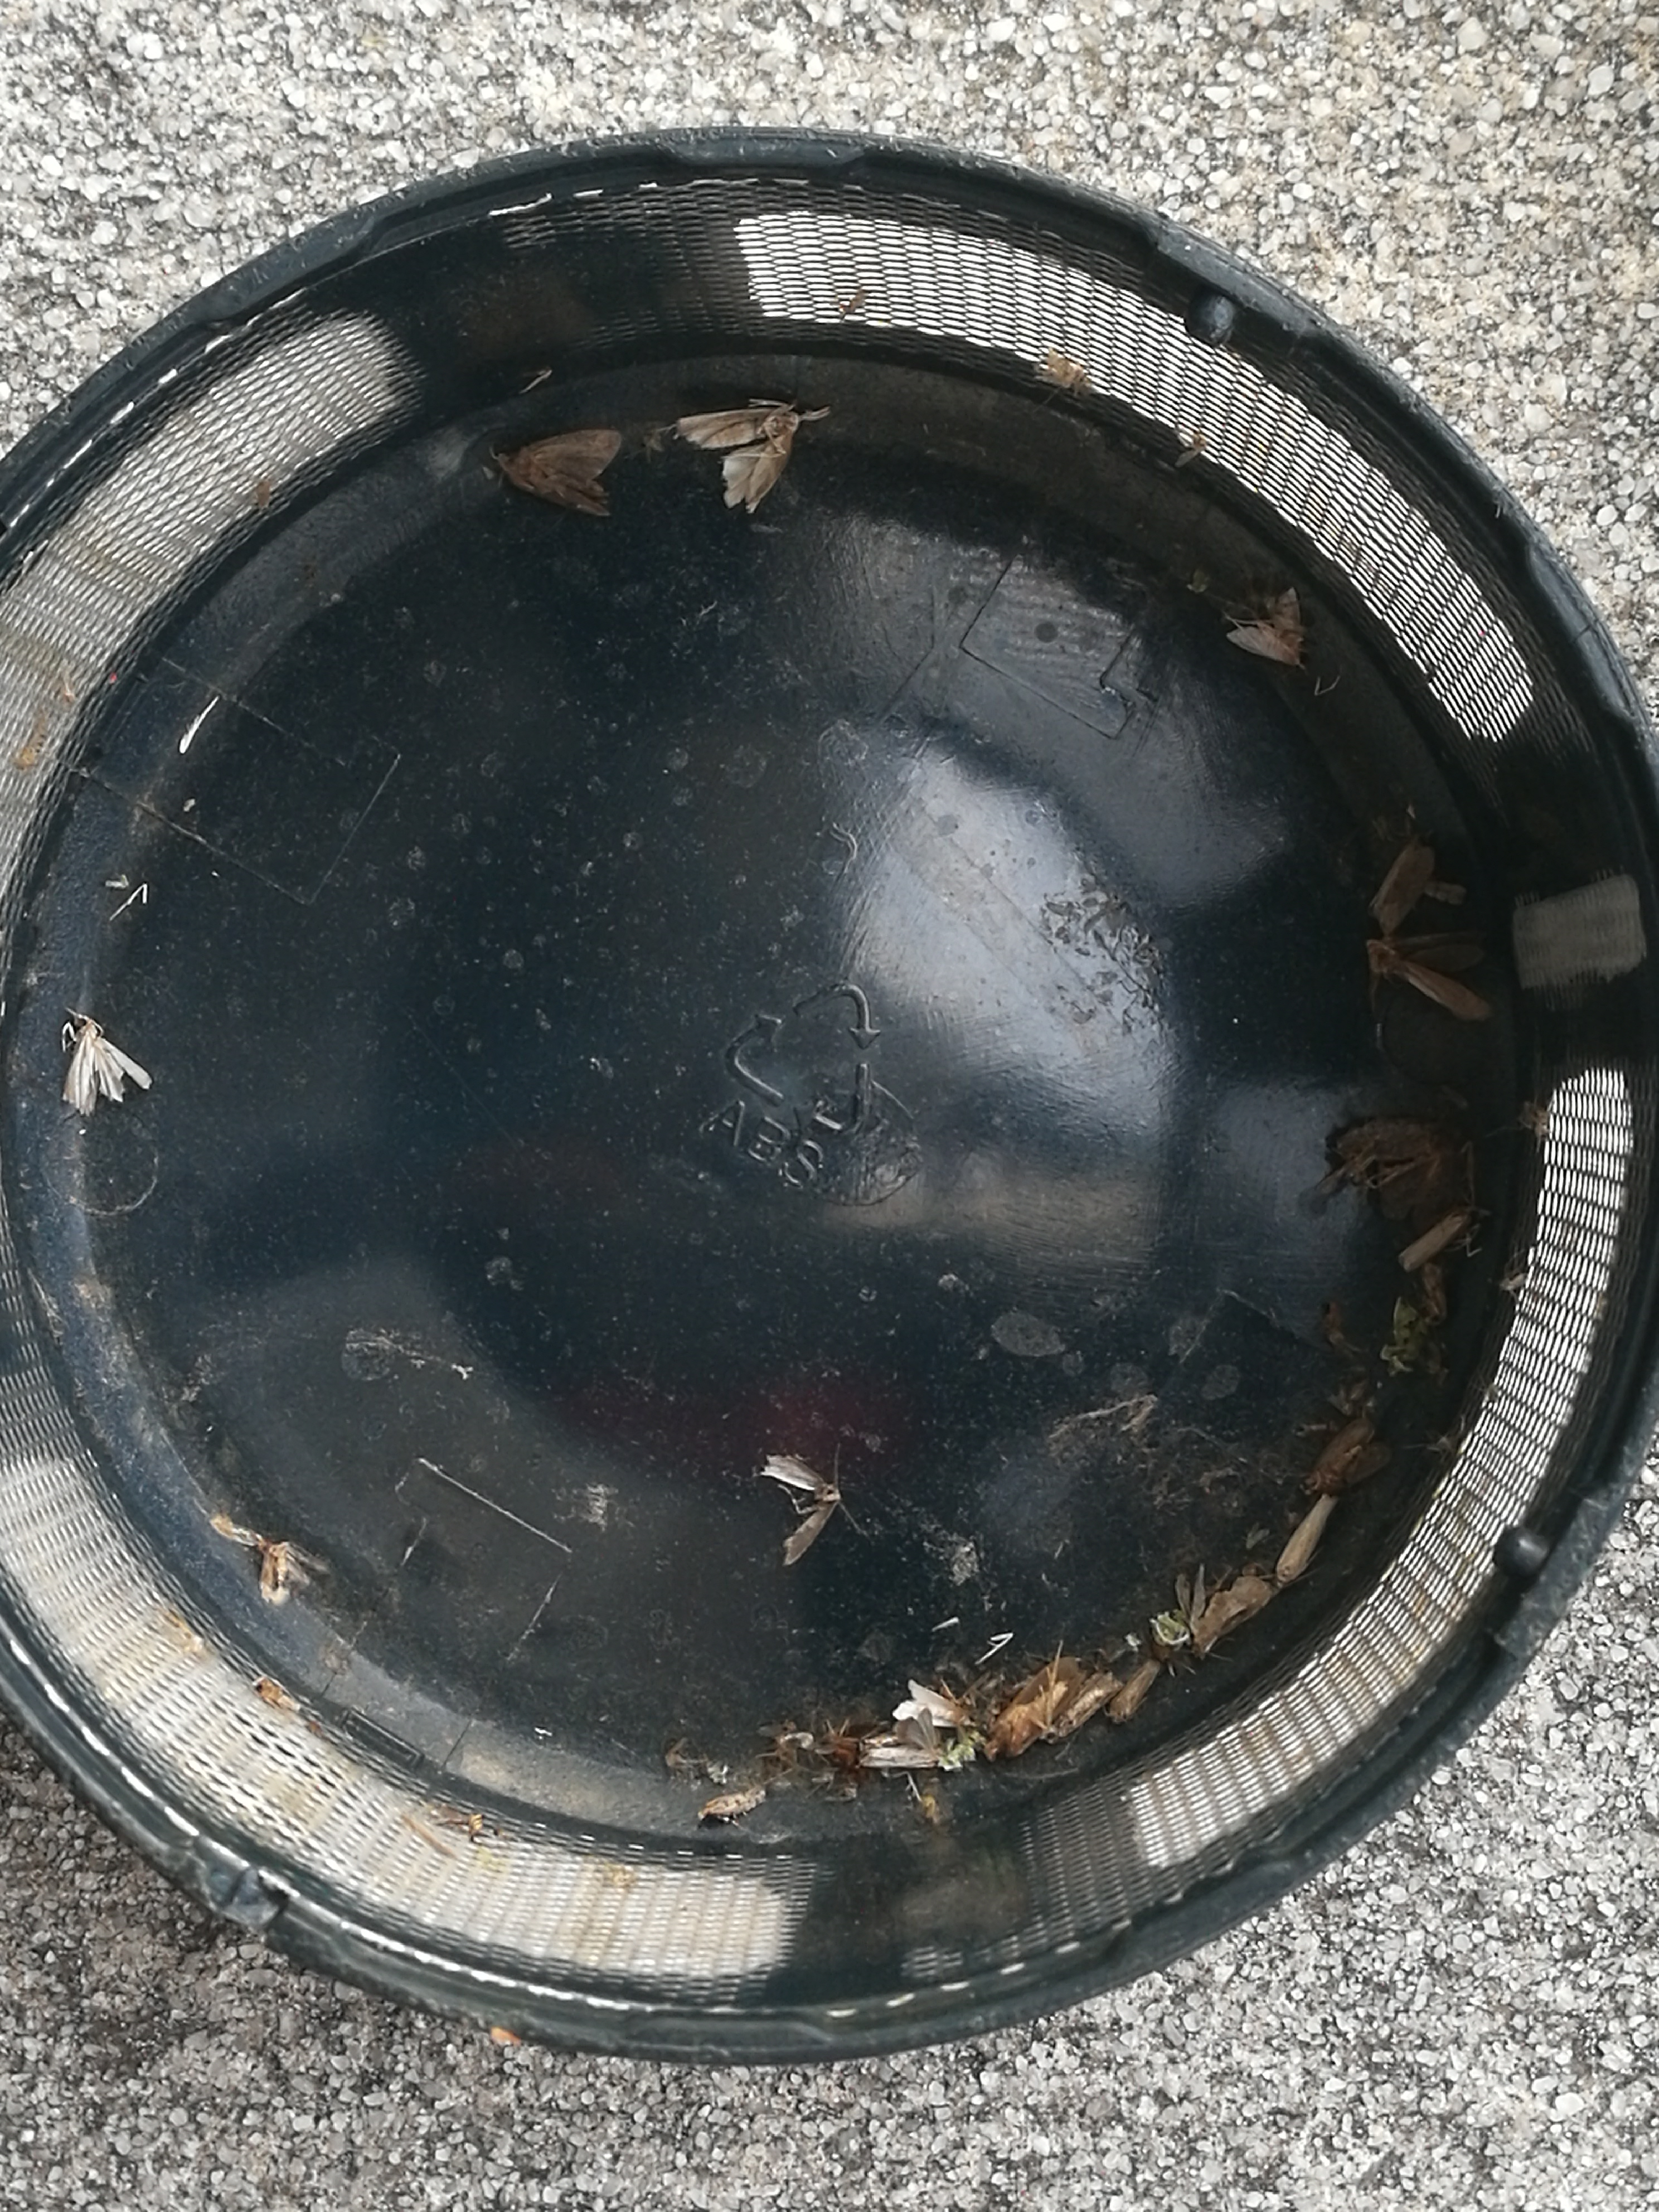mosquito: (983, 1658, 1082, 1761), (1274, 1494, 1333, 1590), (1044, 1674, 1117, 1745), (1398, 1209, 1473, 1271), (1110, 1653, 1161, 1723), (863, 1745, 946, 1768), (697, 1794, 762, 1822)
moth: (1330, 1116, 1466, 1233), (680, 411, 798, 512), (495, 427, 622, 514), (1370, 932, 1493, 1021), (63, 1015, 153, 1115), (760, 1454, 838, 1566), (1175, 1566, 1267, 1660), (1302, 1420, 1391, 1493), (1227, 589, 1302, 664), (258, 1541, 329, 1606), (892, 1681, 974, 1728)
